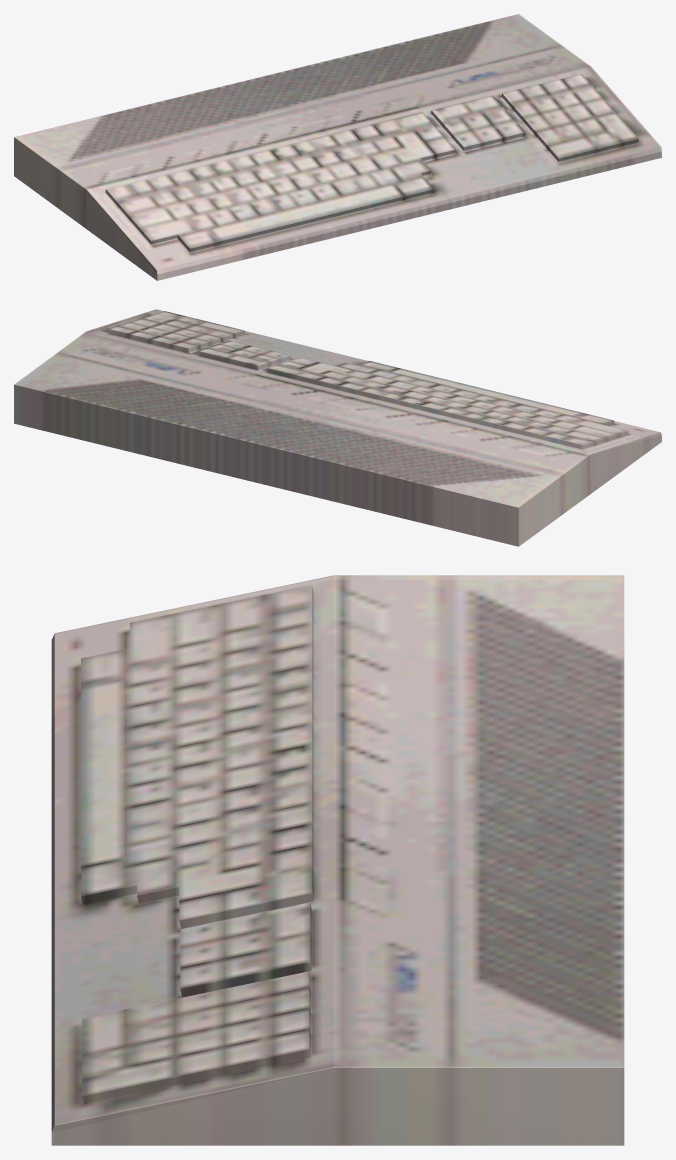
Rendered from AtariST.obj.
3 views of the same model, one above another, from view 1: azimuth 30°, elevation 25°; view 2: azimuth 150°, elevation 25°; view 3: azimuth 270°, elevation 25° (orthographic). The views are drawn at different scales.
Parts seen in each view (by area): view 1: Atari_ST_Cube; view 2: Atari_ST_Cube; view 3: Atari_ST_Cube.
Part boxes in pixels (x1,y1,x2,y2): Atari_ST_Cube: (14, 14, 661, 280); Atari_ST_Cube: (14, 309, 661, 546); Atari_ST_Cube: (51, 575, 624, 1145).
Bounding box in the file's own units: 6.07 × 0.4702 × 2.98.
